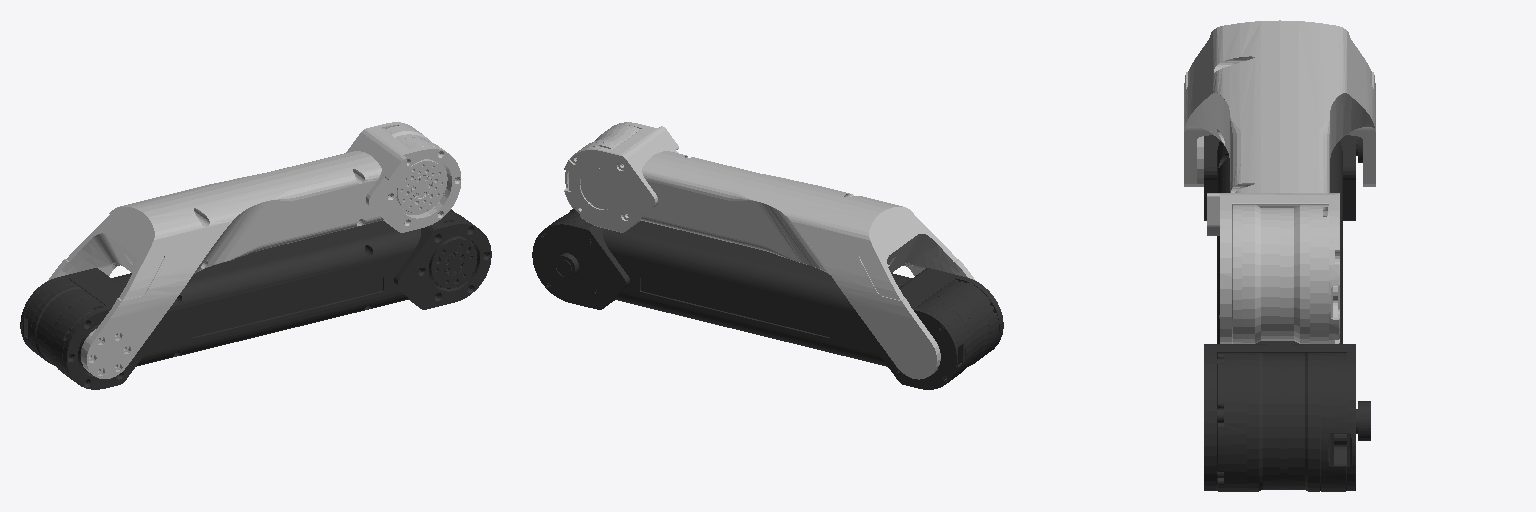
URDF robot description (airbot_arm):
<?xml version="1.0" encoding="utf-8"?>
<!-- This URDF was automatically created by SolidWorks to URDF Exporter! Originally created by [author] ([email redacted]) 
     Commit Version: 1.6.0-4-g7f85cfe  Build Version: 1.6.7995.38578
     For more information, please see http://wiki.ros.org/sw_urdf_exporter -->
<robot
  name="airbot_arm">
  <mujoco>
    <compiler meshdir="../meshes/" balanceinertia="true" discardvisual="false" />
  </mujoco>
  <link
    name="base_link">
    <inertial>
      <origin
        xyz="-2.9949E-05 3.0537E-05 -0.033016"
        rpy="0 0 0" />
      <mass
        value="0.44071" />
      <inertia
        ixx="1.7392E-04"
        ixy="-3.4525E-07"
        ixz="-5.9337E-07"
        iyy="1.7547E-04"
        iyz="1.1271E-06"
        izz="1.5925E-04" />
    </inertial>
    <visual>
      <origin
        xyz="0 0 0"
        rpy="0 0 0" />
      <geometry>
        <mesh
          filename="package://airbot_arm/meshes/base_link.STL" />
      </geometry>
      <material
        name="">
        <color
          rgba="0.75294 0.75294 0.75294 1" />
      </material>
    </visual>
    <collision>
      <origin
        xyz="0 0 0"
        rpy="0 0 0" />
      <geometry>
        <mesh
          filename="package://airbot_arm/meshes/base_link.STL" />
      </geometry>
    </collision>
  </link>
  <link
    name="link1">
    <inertial>
      <origin
        xyz="-3.3048E-08 -0.00059451 0.016543"
        rpy="0 0 0" />
      <mass
        value="0.051342" />
      <inertia
        ixx="5.7689E-05"
        ixy="-7E-11"
        ixz="-3E-11"
        iyy="1.6943E-05"
        iyz="-3.3983E-07"
        izz="5.5562E-05" />
    </inertial>
    <visual>
      <origin
        xyz="0 0 0"
        rpy="0 0 0" />
      <geometry>
        <mesh
          filename="package://airbot_arm/meshes/link1.STL" />
      </geometry>
      <material
        name="">
        <color
          rgba="1 1 1 1" />
      </material>
    </visual>
    <collision>
      <origin
        xyz="0 0 0"
        rpy="0 0 0" />
      <geometry>
        <mesh
          filename="package://airbot_arm/meshes/link1.STL" />
      </geometry>
    </collision>
  </link>
  <joint
    name="joint1"
    type="revolute">
    <origin
      xyz="0 0 0"
      rpy="0 0 0" />
    <parent
      link="base_link" />
    <child
      link="link1" />
    <axis
      xyz="0 0 1" />
    <limit
      lower="-10"
      upper="10"
      effort="100"
      velocity="1000" />
  </joint>
  <link
    name="link2">
    <inertial>
      <origin
        xyz="0.13234 -0.00019055 -0.0019415"
        rpy="0 0 0" />
      <mass
        value="1.1379" />
      <inertia
        ixx="5.3430993E-04"
        ixy="-4.820824E-05"
        ixz="7.5502E-07"
        iyy="0"
        iyz="-2.6064E-07"
        izz="1.617805616E-02" />
    </inertial>
    <visual>
      <origin
        xyz="0 0 0"
        rpy="0 0 0" />
      <geometry>
        <mesh
          filename="package://airbot_arm/meshes/link2.STL" />
      </geometry>
      <material
        name="">
        <color
          rgba="0.25098 0.25098 0.25098 1" />
      </material>
    </visual>
    <collision>
      <origin
        xyz="0 0 0"
        rpy="0 0 0" />
      <geometry>
        <mesh
          filename="package://airbot_arm/meshes/link2.STL" />
      </geometry>
    </collision>
  </link>
  <joint
    name="joint2"
    type="revolute">
    <origin
      xyz="0 0 0.0402"
      rpy="-1.5708 0.0016463 3.1416" />
    <parent
      link="link1" />
    <child
      link="link2" />
    <axis
      xyz="0 0 1" />
    <limit
      lower="-10"
      upper="10"
      effort="100"
      velocity="1000" />
  </joint>
  <link
    name="link3">
    <inertial>
      <origin
        xyz="0.18498 0.0096239 8.209E-05"
        rpy="0 0 0" />
      <mass
        value="0.55615" />
      <inertia
        ixx="3.6463748E-04"
        ixy="-4.7568977E-04"
        ixz="-9.61418E-06"
        iyy="4.59290981E-03"
        iyz="-1.90857E-06"
        izz="4.61730434E-03" />
    </inertial>
    <visual>
      <origin
        xyz="0 0 0"
        rpy="0 0 0" />
      <geometry>
        <mesh
          filename="package://airbot_arm/meshes/link3.STL" />
      </geometry>
      <material
        name="">
        <color
          rgba="0.75294 0.75294 0.75294 1" />
      </material>
    </visual>
    <collision>
      <origin
        xyz="0 0 0"
        rpy="0 0 0" />
      <geometry>
        <mesh
          filename="package://airbot_arm/meshes/link3.STL" />
      </geometry>
    </collision>
  </link>
  <joint
    name="joint3"
    type="revolute">
    <origin
      xyz="0.264 0 0"
      rpy="0 0 -2.9169" />
    <parent
      link="link2" />
    <child
      link="link3" />
    <axis
      xyz="0 0 1" />
    <limit
      lower="-10"
      upper="10"
      effort="100"
      velocity="1000" />
  </joint>
  <link
    name="link4">
    <inertial>
      <origin
        xyz="0.05354 -0.0002508 -0.00056729"
        rpy="0 0 0" />
      <mass
        value="0.35037" />
      <inertia
        ixx="1.1078784E-04"
        ixy="5.68483E-06"
        ixz="-1.778429E-05"
        iyy="2.1478415E-04"
        iyz="-6.32521E-06"
        izz="1.6720967E-04" />
    </inertial>
    <visual>
      <origin
        xyz="0 0 0"
        rpy="0 0 0" />
      <geometry>
        <mesh
          filename="package://airbot_arm/meshes/link4.STL" />
      </geometry>
      <material
        name="">
        <color
          rgba="0.89804 0.91765 0.92941 1" />
      </material>
    </visual>
    <collision>
      <origin
        xyz="0 0 0"
        rpy="0 0 0" />
      <geometry>
        <mesh
          filename="package://airbot_arm/meshes/link4.STL" />
      </geometry>
    </collision>
  </link>
  <joint
    name="joint4"
    type="revolute">
    <origin
      xyz="0.25132 0 0"
      rpy="0 0 -0.22636" />
    <parent
      link="link3" />
    <child
      link="link4" />
    <axis
      xyz="0 0 1" />
    <limit
      lower="-10"
      upper="10"
      effort="100"
      velocity="1000" />
  </joint>
  <link
    name="link5">
    <inertial>
      <origin
        xyz="0.051613 -0.00072588 -0.00061659"
        rpy="0 0 0" />
      <mass
        value="0.33138" />
      <inertia
        ixx="3.1443063E-04"
        ixy="3.6082E-07"
        ixz="-7.6431E-07"
        iyy="2.9391628E-04"
        iyz="-1.8877E-07"
        izz="2.9233995E-04" />
    </inertial>
    <visual>
      <origin
        xyz="0 0 0"
        rpy="0 0 0" />
      <geometry>
        <mesh
          filename="package://airbot_arm/meshes/link5.STL" />
      </geometry>
      <material
        name="">
        <color
          rgba="0.41176 0.41176 0.41176 1" />
      </material>
    </visual>
    <collision>
      <origin
        xyz="0 0 0"
        rpy="0 0 0" />
      <geometry>
        <mesh
          filename="package://airbot_arm/meshes/link5.STL" />
      </geometry>
    </collision>
  </link>
  <joint
    name="joint5"
    type="revolute">
    <origin
      xyz="0.06 -0.0005 -0.002"
      rpy="-1.5708 -0.0025284 0" />
    <parent
      link="link4" />
    <child
      link="link5" />
    <axis
      xyz="0 0 1" />
    <limit
      lower="-10"
      upper="10"
      effort="100"
      velocity="1000" />
  </joint>
  <link
    name="link6">
    <inertial>
      <origin
        xyz="0 0 0"
        rpy="0 0 0" />
      <mass
        value="1E-09" />
      <inertia
        ixx="1E-09"
        ixy="1E-09"
        ixz="1E-09"
        iyy="1E-09"
        iyz="1E-09"
        izz="1E-09" />
    </inertial>
  </link>
  <joint
    name="joint6"
    type="revolute">
    <origin
      xyz="0.075 0 0"
      rpy="0 0 0" />
    <parent
      link="link5" />
    <child
      link="link6" />
    <axis
      xyz="1 0 0" />
    <limit
      lower="-10"
      upper="10"
      effort="100"
      velocity="1000" />
  </joint>
</robot>

--- Facts derived from the render (not from the file) ---
Views: 3 orthographic renders of the robot side by side, from view 1: azimuth 30°, elevation 25°; view 2: azimuth 150°, elevation 25°; view 3: azimuth 270°, elevation 25°.
Model airbot_arm with 7 links and 6 joints (6 revolute), rooted at base_link, posed all joints at 0.
Visible links, largest first — view 1: link3, link2; view 2: link3, link2; view 3: link3, link2.
Link boxes in pixels (x1,y1,x2,y2): link3: [48, 122, 460, 378]; link2: [20, 209, 491, 389]; link3: [564, 122, 975, 379]; link2: [532, 209, 1003, 389]; link3: [1184, 20, 1375, 343]; link2: [1204, 135, 1370, 491].
Bounding box of the posed robot: 0.32 × 0.0765 × 0.1124 m (x, y, z).
Meshes: 6 distinct files referenced, 2 mesh visuals loaded (2 binary STL); not drawn: 4 (reference not matched to a file when rendering).